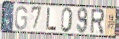0: (61, 8, 74, 34)
7: (30, 5, 43, 32)
9: (76, 7, 88, 36)
G: (14, 5, 28, 31)
L: (45, 8, 57, 33)
R: (89, 8, 105, 36)
